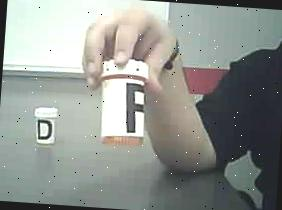Bottle D: (28, 102, 65, 152)
Bottle F: (94, 54, 153, 151)
